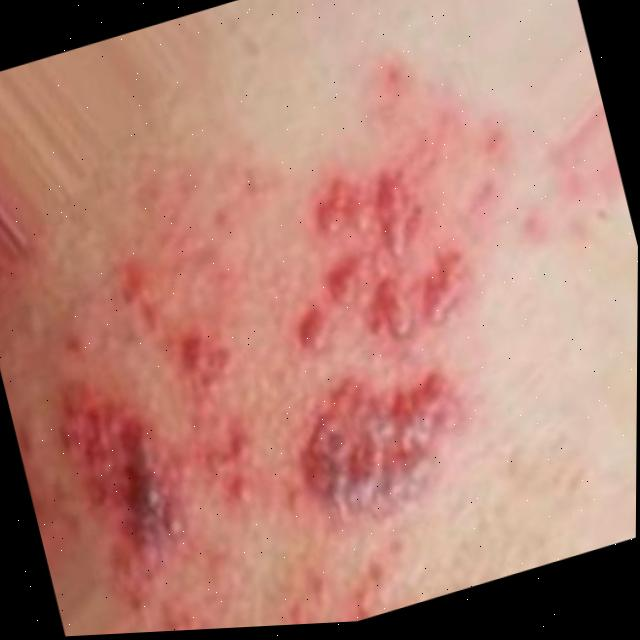Shingles: (15, 129, 565, 639)
